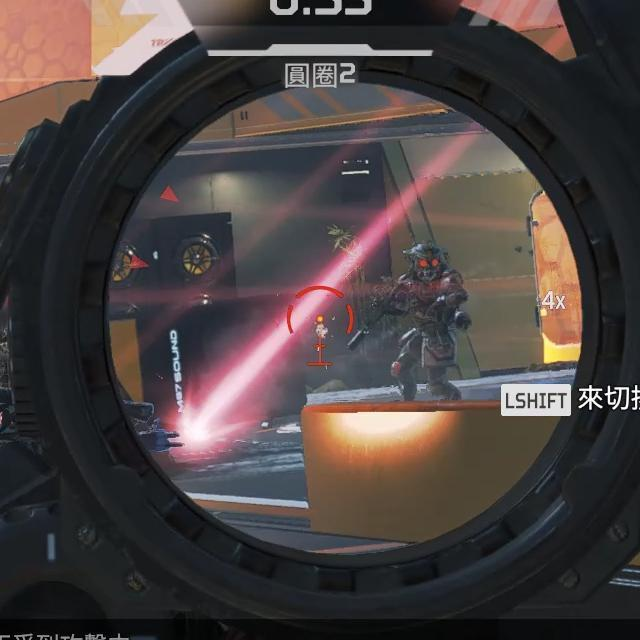avatar: (384, 239, 472, 403)
